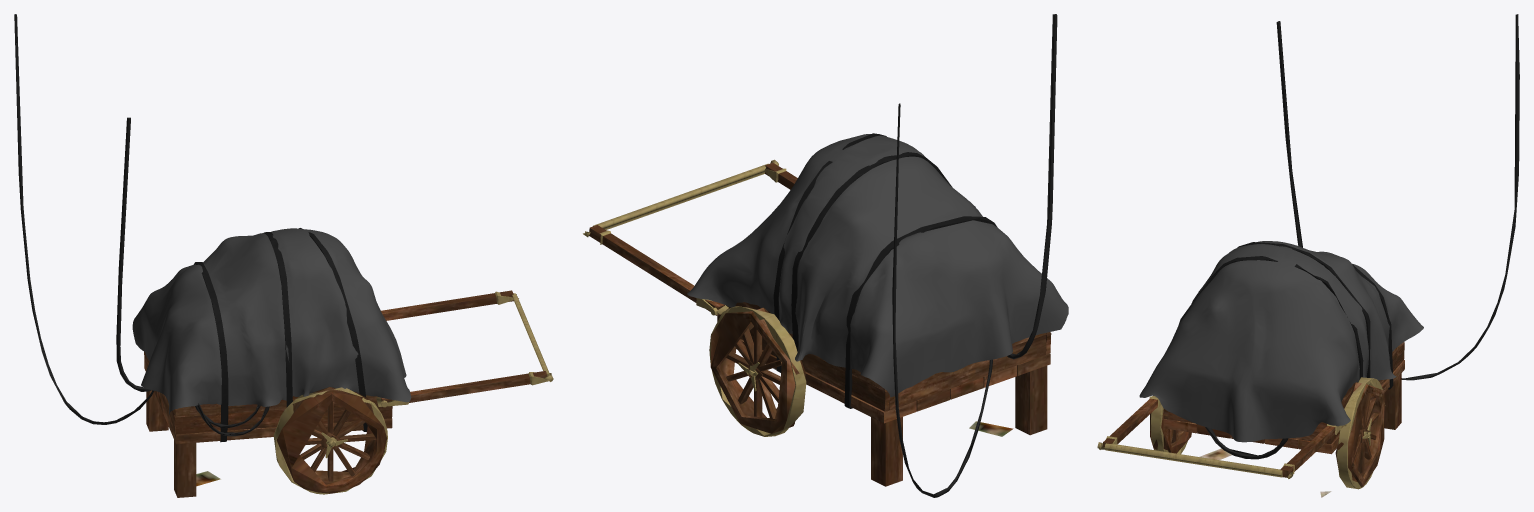
File: KB3D_NEC_BldgSM_B_Cart.glb
3 views of the same model, side by side, from view 1: azimuth 30°, elevation 25°; view 2: azimuth 150°, elevation 25°; view 3: azimuth 270°, elevation 25° (orthographic). The views are drawn at different scales.
Parts seen in each view (by area): view 1: KB3D_NEC_BldgSM_B_Cart; view 2: KB3D_NEC_BldgSM_B_Cart; view 3: KB3D_NEC_BldgSM_B_Cart.
Part boxes in pixels (left/top/right/bottom): KB3D_NEC_BldgSM_B_Cart: left=14, top=14, right=553, bottom=497; KB3D_NEC_BldgSM_B_Cart: left=583, top=14, right=1068, bottom=497; KB3D_NEC_BldgSM_B_Cart: left=1097, top=14, right=1519, bottom=497.
Size of the model in its own units: 3.02 by 2.79 by 2.85.
7 materials, 5 textured.
